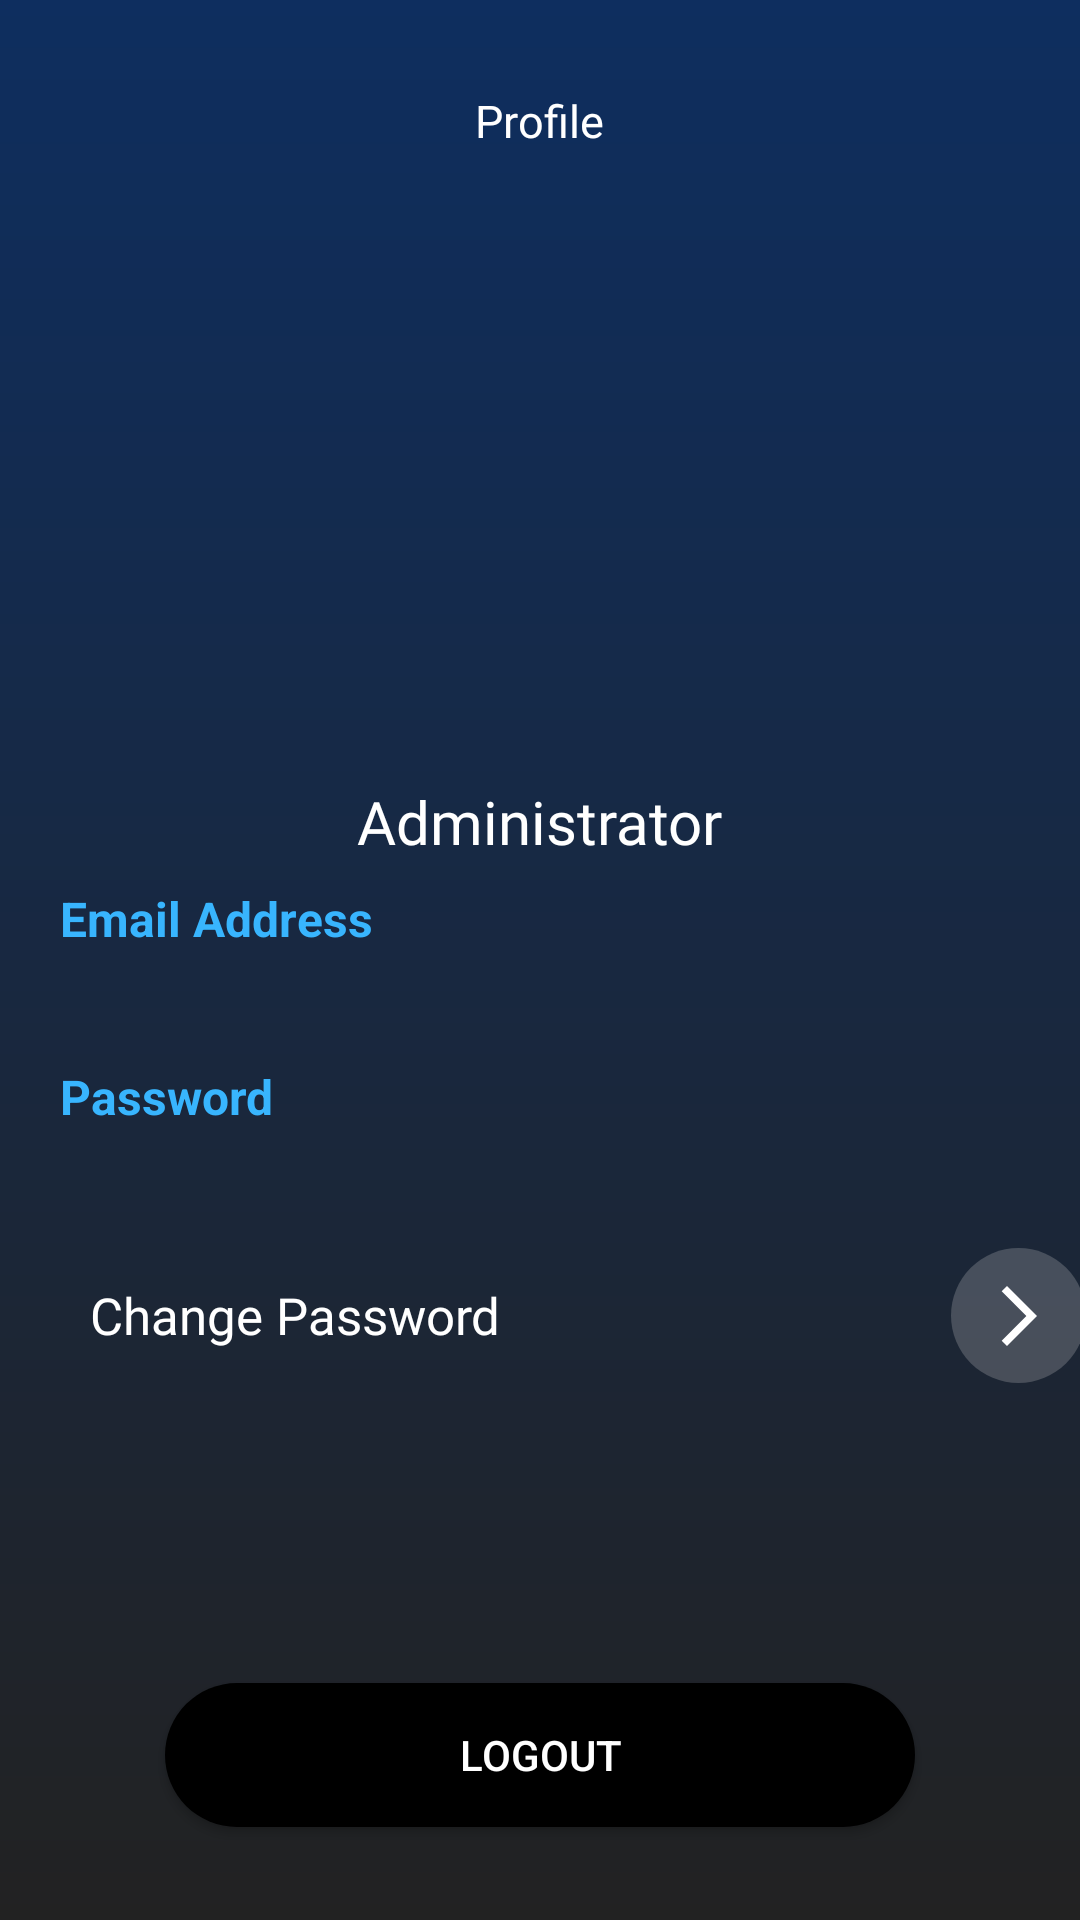

Where icons sit on this 1080*1920 app screen, as (x1, y1, x2, y2):
arrow forward: (951, 1248, 1080, 1383)
